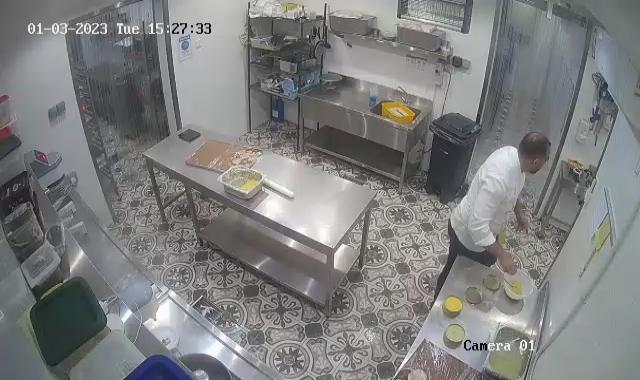no_hairnet: (516, 132, 554, 164)
